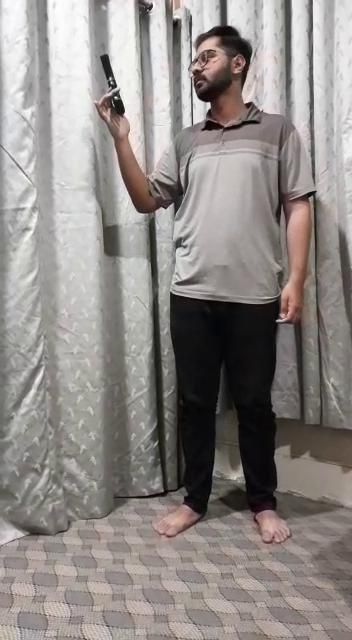criminal: (94, 22, 316, 547)
weapon: (98, 50, 127, 121)
